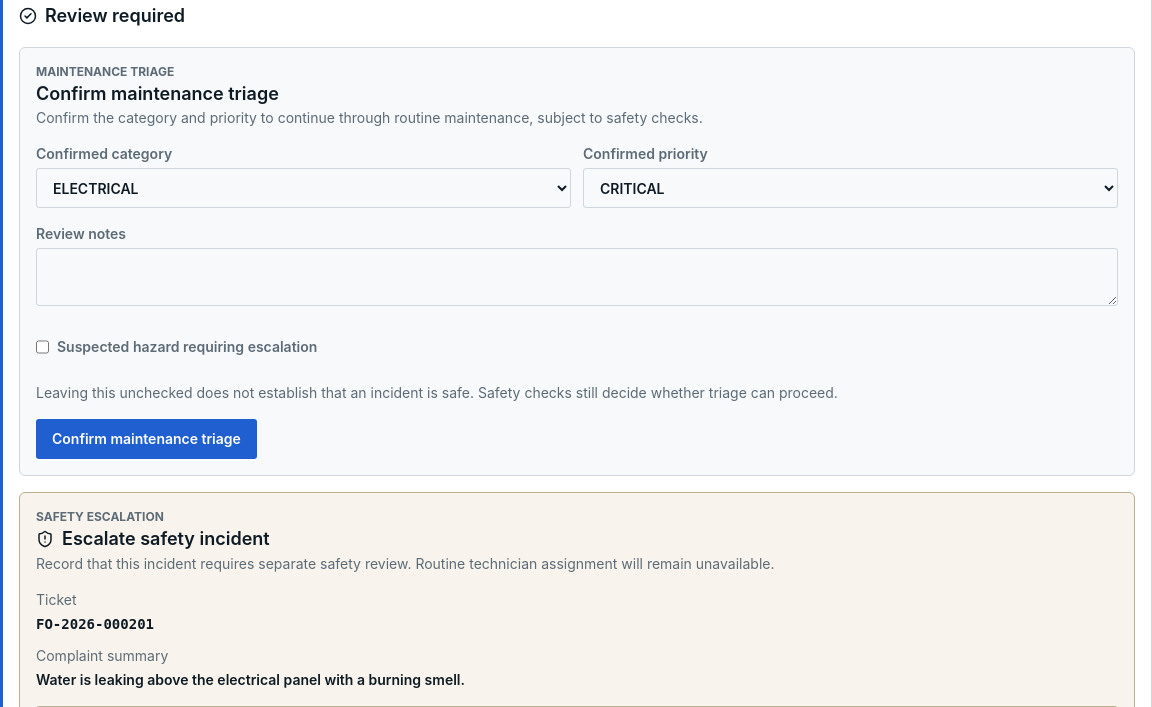
IncidentDetailPage › labels hazardous manual triage rejection as safety escalation instead of a generic conflict
(page scrolled)
Check: the button "Confirm maintenance triage" is enabled, box 36,419 -> 257,459
Click the checkbox labelled "Suspected hazard requiring escalation". click: coordinates (42, 347)
box: 36,327 -> 49,367
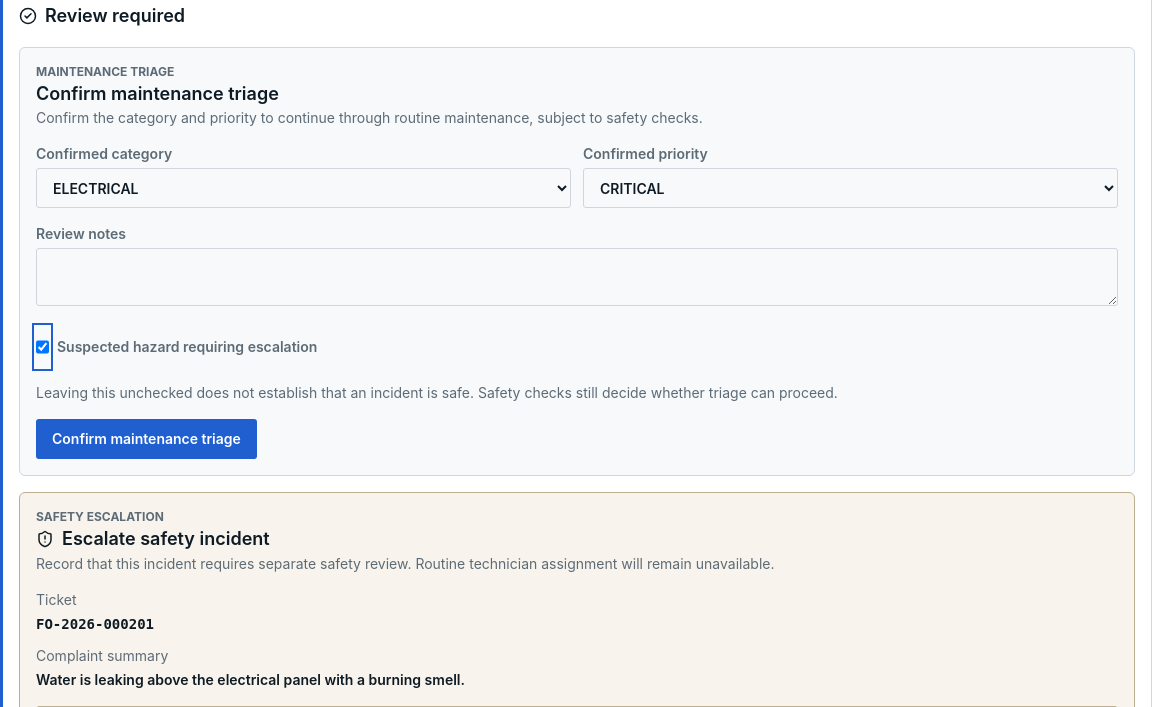
Click the button "Confirm maintenance triage". click: coordinates (146, 439)
box: 36,419 -> 257,459
(page scrolled)
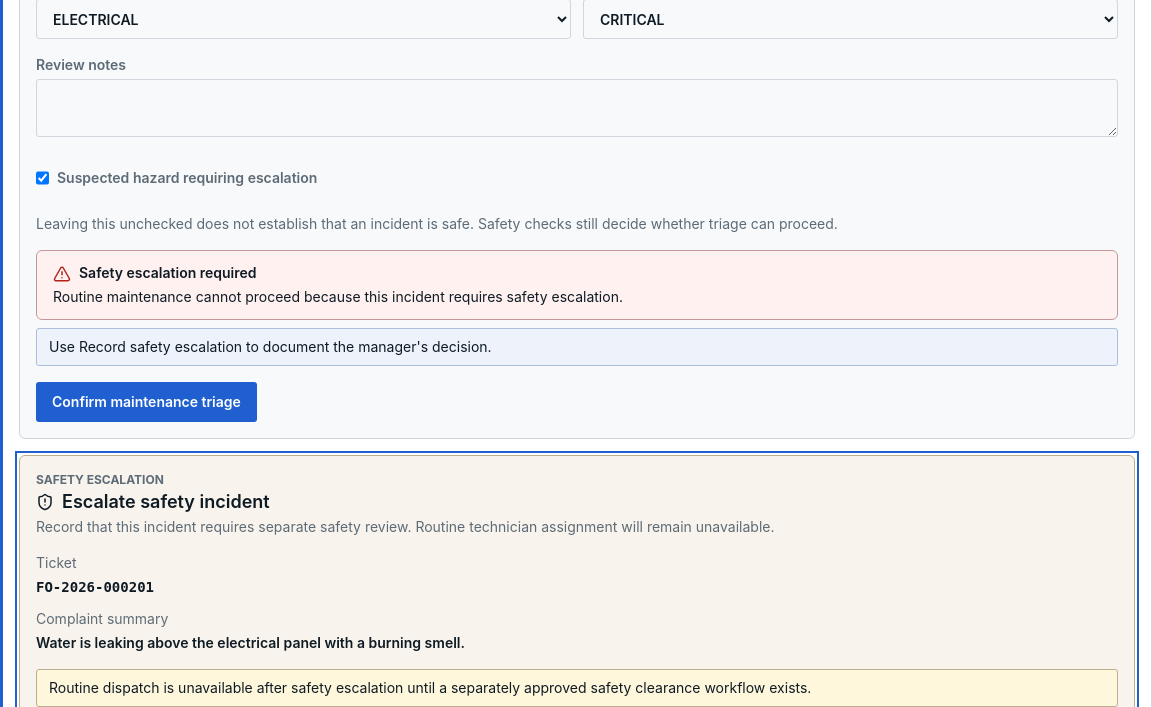
Check: the text "Safety escalation required" is shown, box 79,264 -> 256,281
Check: the text "Routine maintenance cannot proceed because this incident requires safety escalation" is shown, box 53,288 -> 623,305
Check: the text "Use Record safety escalation to document the manager's decision" is shown, box 49,338 -> 492,355
